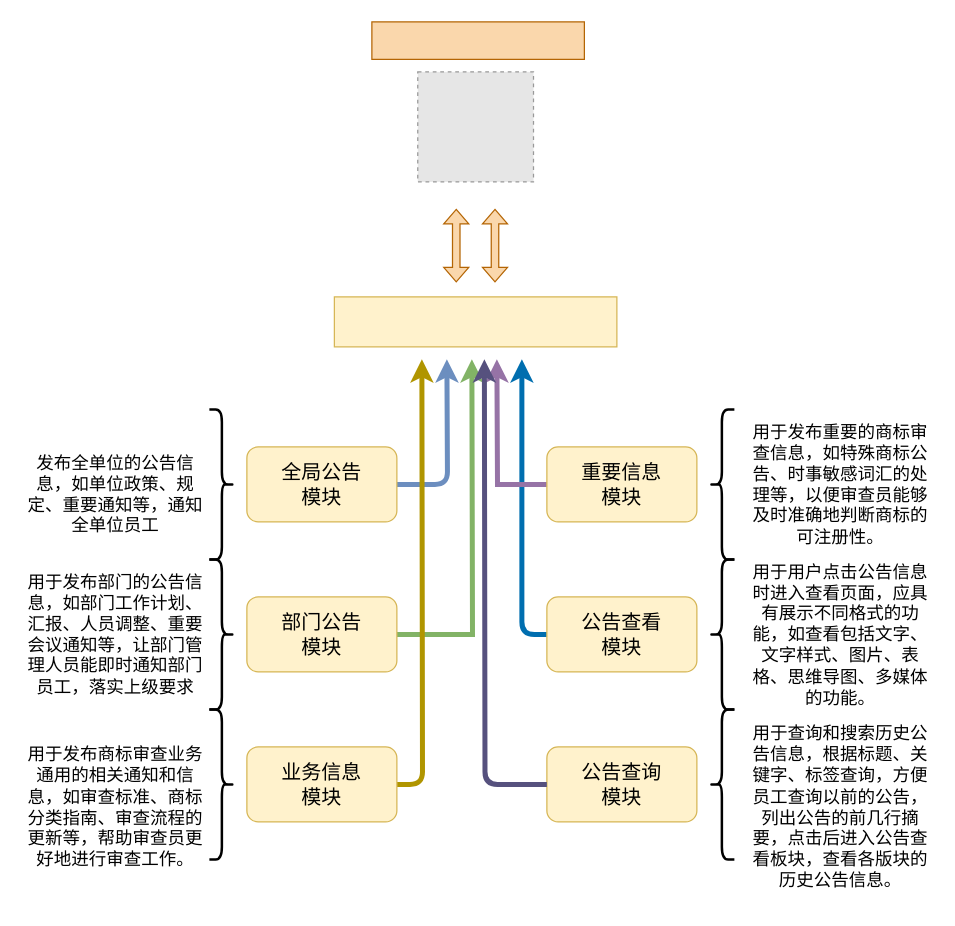
Image size: 955x926. Some labels were removed from this diagram. Grey dashed boxes stand in for pictures. Here are the shapes that lost their labels. From the top down, the box of each, then its label:
(371, 21, 584, 59): 数据交换中心
(333, 296, 617, 347): 公告模块管理系统
